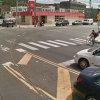Crosswalk: (9, 31, 87, 56)
